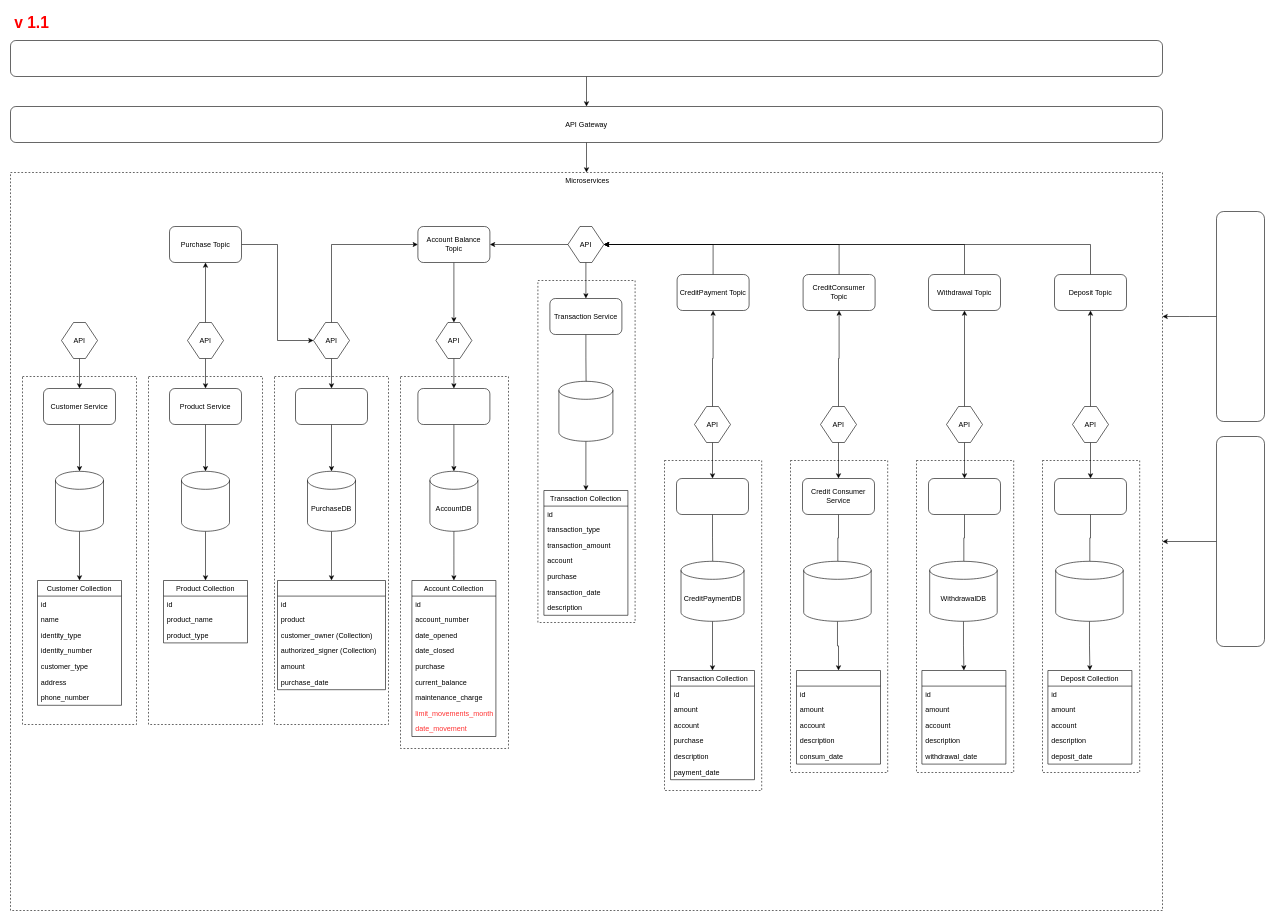
This 1275x921 diagram has some shape labels left out. Here are the shapes that lost their labels. From the top down, the box of each, then its label:
(10, 40, 1162, 76): Frontend Client
(1216, 211, 1264, 422): Registry Server
(295, 388, 368, 424): Purchase Service
(417, 388, 490, 424): Account Service
(558, 381, 613, 441): TransactionDB
(55, 471, 104, 531): CustomerDB
(181, 471, 230, 531): ProductDB
(676, 478, 748, 514): Credit Payment Service
(928, 478, 1000, 514): Withdrawal Service
(1054, 478, 1126, 514): Deposit Service
(1216, 436, 1264, 646): Config Server
(803, 561, 871, 621): CreditConsumerDB
(1055, 561, 1123, 621): DepositDB
(277, 580, 386, 690): Purchase Collection
(796, 670, 880, 764): CreditConsumer Collection
(921, 670, 1006, 764): Withdrawal Collection
